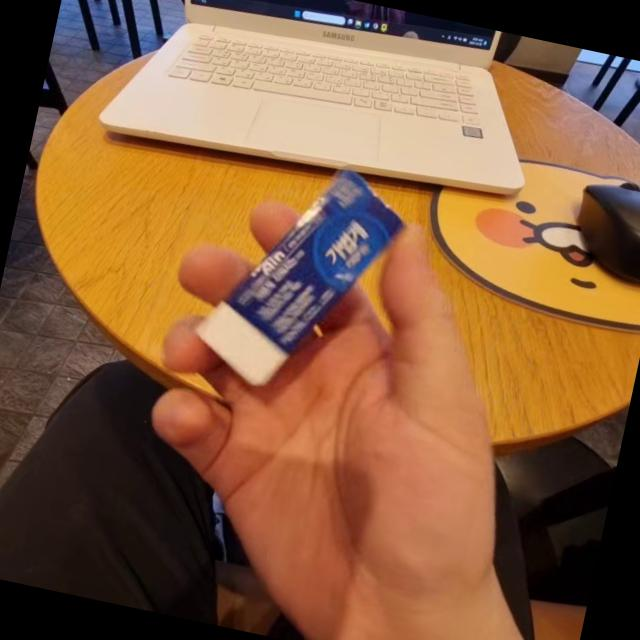eraser: (182, 134, 448, 424)
grab_eraser: (84, 131, 577, 640)
mouse: (557, 163, 640, 312)
